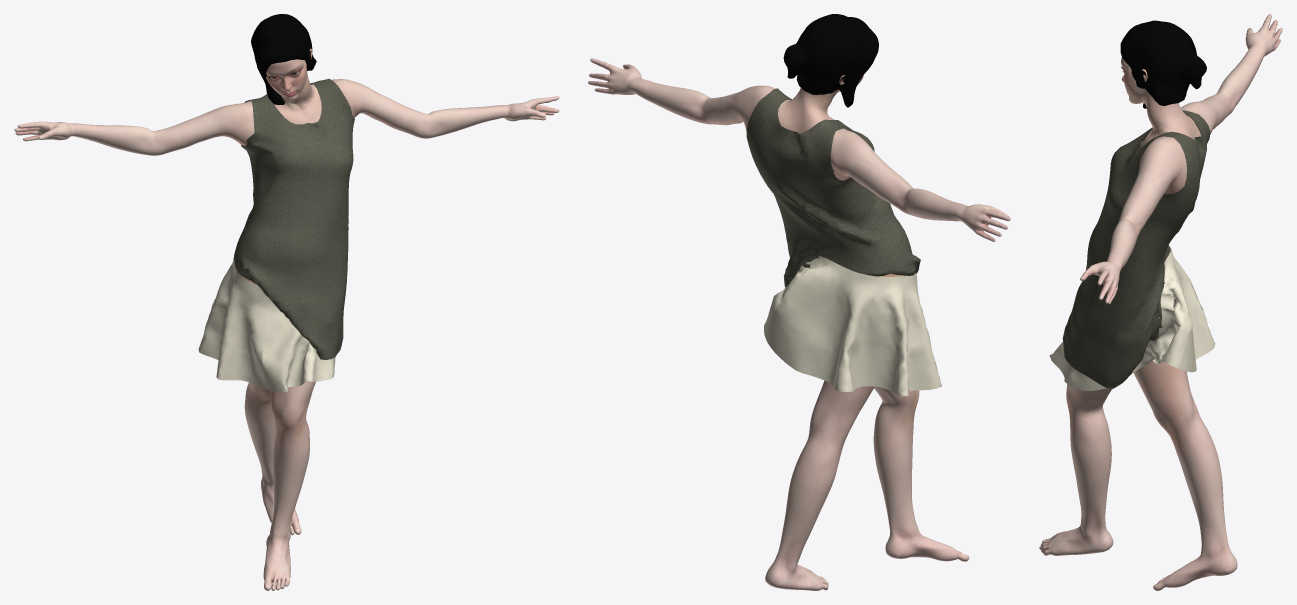
Rendered from random.obj.
3 views of the same model, side by side, from view 1: azimuth 30°, elevation 25°; view 2: azimuth 150°, elevation 25°; view 3: azimuth 270°, elevation 25° (orthographic). The views are drawn at different scales.
Bounding box in the file's own units: 1601 × 1717 × 679.
